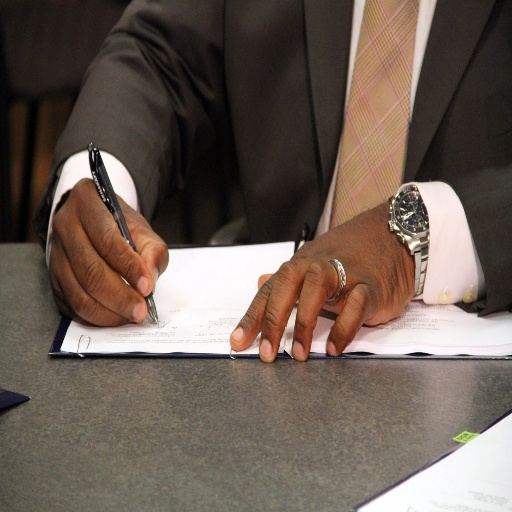hand: (249, 188, 450, 356), (48, 172, 168, 330)
